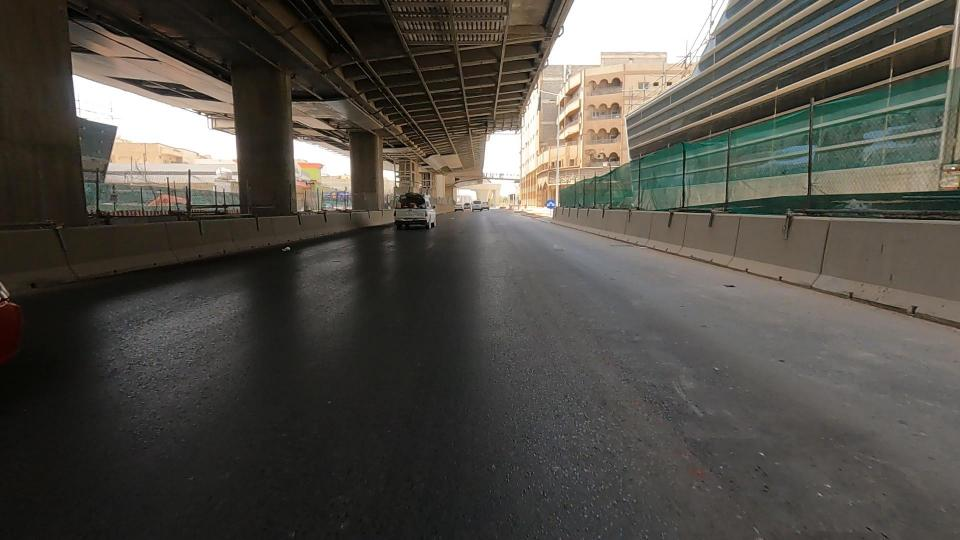CONSTRUCTION_ROAD: (594, 86, 960, 328), (516, 144, 722, 276)
GARBAGE: (267, 229, 302, 273)
